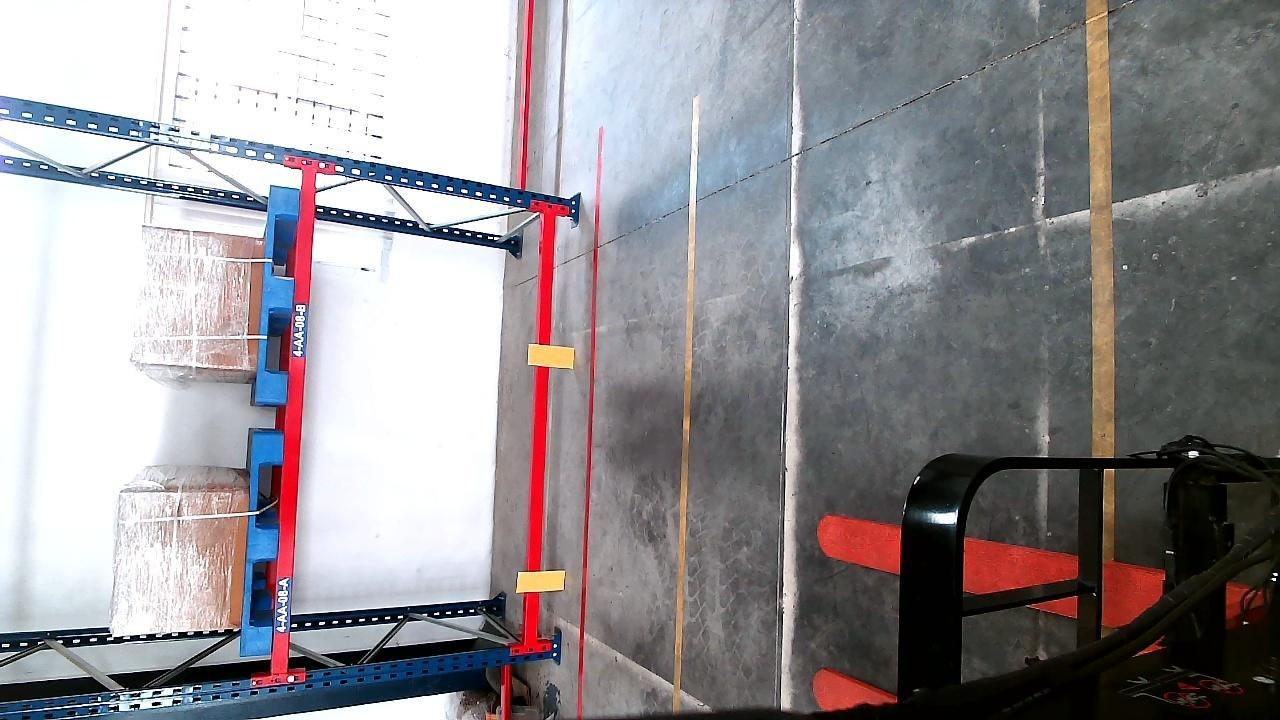red_line: (570, 128, 607, 712)
yellow_line: (667, 96, 706, 717), (1087, 0, 1117, 490)
